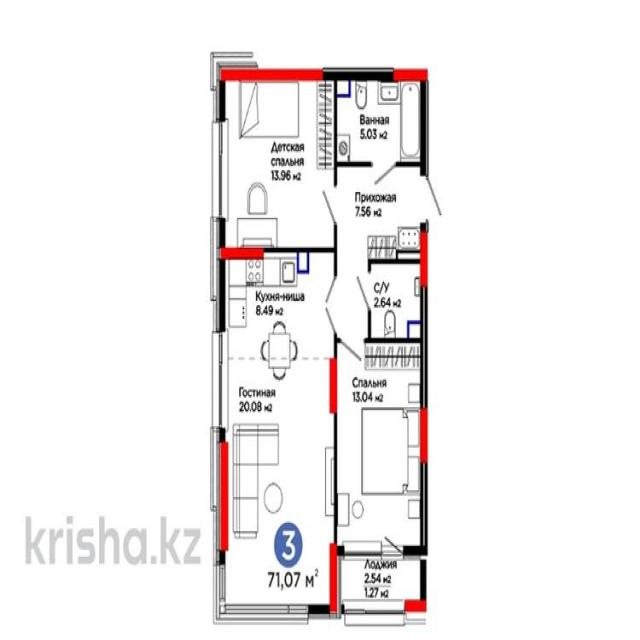balcony: (336, 550, 424, 612)
bathroom: (335, 73, 426, 164), (369, 260, 424, 340)
hallway: (335, 162, 426, 341)
kitchen: (225, 248, 336, 359)
living_room: (224, 358, 335, 613), (222, 74, 336, 250), (338, 341, 425, 551)
